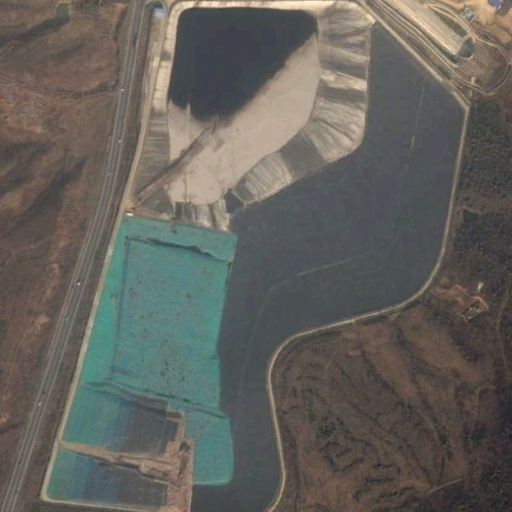lf: (33, 5, 469, 511)
